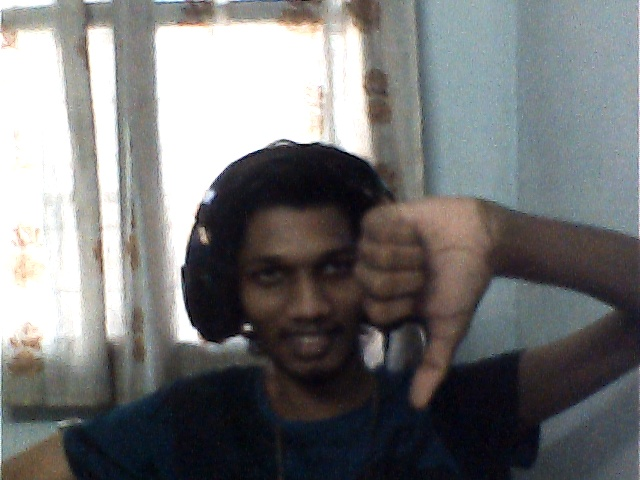ThumbsDown: (356, 195, 490, 411)
